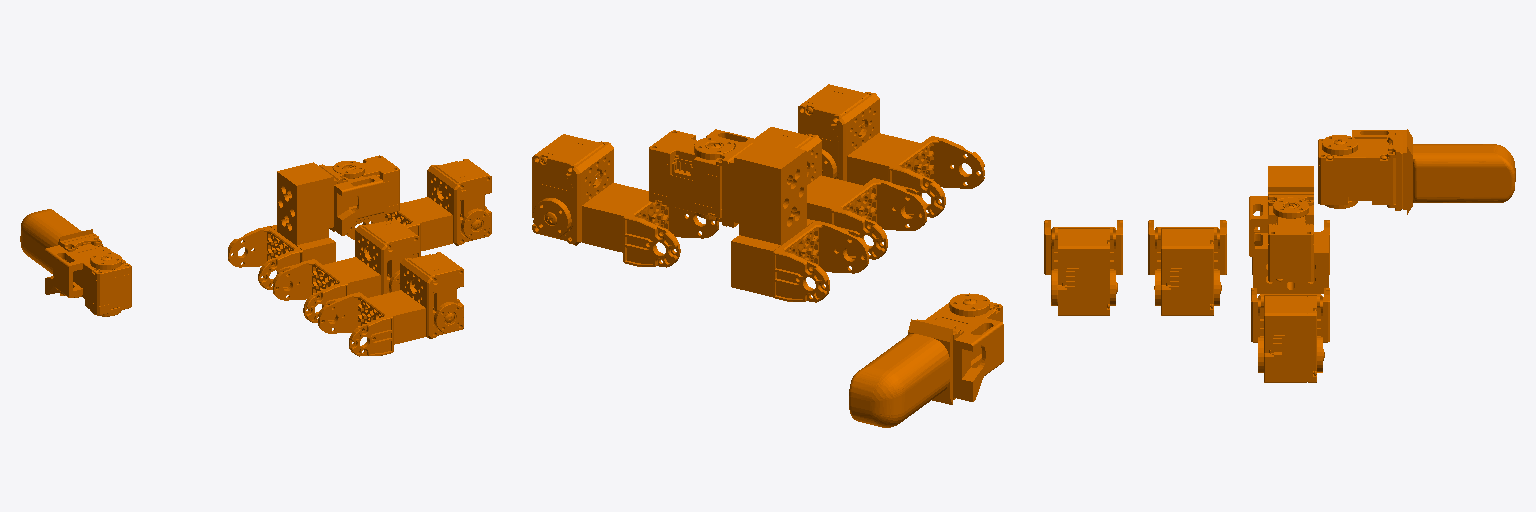
robot.urdf — onshape:
<robot name="onshape">
  <link name="palm_lower">
    <inertial>
      <origin xyz="0.0 0.0 0.0" rpy="0.0 -0.0 0.0"/>
      <mass value="0.237"/>
      <inertia ixx="0.000354094" ixy="-1.193e-06" ixz="-2.445e-06" iyy="0.000260915" iyz="-2.905e-06" izz="0.000529257"/>
    </inertial>
    <visual>
      <geometry>
        <mesh filename="../assets/leap/leap_hand/palm_lower.stl"/>
      </geometry>
      <origin xyz="-0.020095249652862544 0.025757756134899473 -0.034722403578460216" rpy="0.0 -0.0 0.0"/>
      <material name="palm_lower_material">
        <color rgba="0.6039215686274509 0.14901960784313725 0.14901960784313725 1.0"/>
      </material>
    </visual>
    <collision>
      <geometry>
        <mesh filename="../assets/leap/leap_hand/palm_lower.stl"/>
      </geometry>
      <origin xyz="-0.020095249652862544 0.025757756134899473 -0.034722403578460216" rpy="0.0 -0.0 0.0"/>
    </collision>
  </link>
  <link name="mcp_joint_long">
    <inertial>
      <origin xyz="0.0 0.0 0.0" rpy="0.0 -0.0 0.0"/>
      <mass value="0.044"/>
      <inertia ixx="1.1499e-05" ixy="3.049e-06" ixz="1.21e-07" iyy="7.796e-06" iyz="1.12e-07" izz="1.4759e-05"/>
    </inertial>
    <visual>
      <geometry>
        <mesh filename="custom_models/mcp_joint_long.stl"/>
      </geometry>
      <origin xyz="0.008406902261174496 0.0077662438597169954 0.014657354985032912" rpy="1.6375789613221e-15 -1.021047330249102e-30 1.7177968783327987e-31"/>
      <material name="mcp_joint_material">
        <color rgba="0.878 0.467 0.0 1.0"/>
      </material>
    </visual>
    <collision>
      <geometry>
        <mesh filename="custom_models/mcp_joint_long.stl"/>
      </geometry>
      <origin xyz="0.008406902261174496 0.0077662438597169954 0.014657354985032912" rpy="1.6375789613221e-15 -1.021047330249102e-30 1.7177968783327987e-31"/>
    </collision>
  </link>
  <link name="pip">
    <inertial>
      <origin xyz="0.0 0.0 0.0" rpy="0.0 -0.0 0.0"/>
      <mass value="0.032"/>
      <inertia ixx="4.798e-06" ixy="1.2e-08" ixz="4e-09" iyy="2.862e-06" iyz="1.1e-08" izz="4.234e-06"/>
    </inertial>
    <visual>
      <geometry>
        <mesh filename="../assets/leap/leap_hand/pip.stl"/>
      </geometry>
      <origin xyz="0.009643363092271328 0.0002999999999999895 0.0007840340104173765" rpy="-1.5707963267948966 -1.5707963267948963 0.0"/>
      <material name="pip_material">
        <color rgba="0.7490196078431373 0.7490196078431373 0.7490196078431373 1.0"/>
      </material>
    </visual>
    <collision>
      <geometry>
        <mesh filename="../assets/leap/leap_hand/pip.stl"/>
      </geometry>
      <origin xyz="0.009643363092271328 0.0002999999999999895 0.0007840340104173765" rpy="-1.5707963267948966 -1.5707963267948963 0.0"/>
    </collision>
  </link>
  <link name="dip_long">
    <inertial>
      <origin xyz="0.0 0.0 0.0" rpy="0.0 -0.0 0.0"/>
      <mass value="0.037"/>
      <inertia ixx="5.542e-06" ixy="-6.07e-07" ixz="-1.7e-08" iyy="5.727e-06" iyz="-2.3e-08" izz="6.682e-06"/>
    </inertial>
    <visual>
      <geometry>
        <mesh filename="custom_models/dip_long.stl"/>
      </geometry>
      <origin xyz="0.021133352895225003 -0.00843211914670488 0.00978508816209524" rpy="-3.141592653589793 4.507511124216441e-32 4.439548105392361e-32"/>
      <material name="dip_material">
        <color rgba="0.878 0.467 0.0 1.0"/>
      </material>
    </visual>
    <collision>
      <geometry>
        <mesh filename="custom_models/dip_long.stl"/>
      </geometry>
      <origin xyz="0.021133352895225003 -0.00843211914670488 0.00978508816209524" rpy="-3.141592653589793 4.507511124216441e-32 4.439548105392361e-32"/>
    </collision>
  </link>
  <link name="fingertip">
    <inertial>
      <origin xyz="0.0 0.0 0.0" rpy="0.0 -0.0 0.0"/>
      <mass value="0.016"/>
      <inertia ixx="3.368e-06" ixy="1.15e-07" ixz="0.0" iyy="1.556e-06" iyz="0.0" izz="2.863e-06"/>
    </inertial>
    <visual>
      <geometry>
        <mesh filename="../assets/leap/leap_hand/fingertip.stl"/>
      </geometry>
      <origin xyz="0.013286424108533503 -0.006114238386541987 0.014499999999999498" rpy="3.141592653589793 1.1993117970061735e-33 4.439548105392361e-32"/>
      <material name="fingertip_material">
        <color rgba="0.8666666666666667 0.8666666666666667 0.050980392156862744 1.0"/>
      </material>
    </visual>
    <collision>
      <geometry>
        <mesh filename="../assets/leap/leap_hand/fingertip.stl"/>
      </geometry>
      <origin xyz="0.013286424108533503 -0.006114238386541987 0.014499999999999498" rpy="3.141592653589793 1.1993117970061735e-33 4.439548105392361e-32"/>
    </collision>
  </link>
  <link name="pip_4">
    <inertial>
      <origin xyz="0.0 0.0 0.0" rpy="0.0 -0.0 0.0"/>
      <mass value="0.032"/>
      <inertia ixx="4.798e-06" ixy="1.2e-08" ixz="4e-09" iyy="2.862e-06" iyz="1.1e-08" izz="4.234e-06"/>
    </inertial>
    <visual>
      <geometry>
        <mesh filename="../assets/leap/leap_hand/pip.stl"/>
      </geometry>
      <origin xyz="-0.005356636907728671 0.0002999999999999999 0.0007840340104173782" rpy="-1.5707963267948966 -1.5707963267948963 0.0"/>
      <material name="pip_material">
        <color rgba="0.7490196078431373 0.7490196078431373 0.7490196078431373 1.0"/>
      </material>
    </visual>
    <collision>
      <geometry>
        <mesh filename="../assets/leap/leap_hand/pip.stl"/>
      </geometry>
      <origin xyz="-0.005356636907728671 0.0002999999999999999 0.0007840340104173782" rpy="-1.5707963267948966 -1.5707963267948963 0.0"/>
    </collision>
  </link>
  <link name="thumb_pip">
    <inertial>
      <origin xyz="0.0 0.0 0.0" rpy="0.0 -0.0 0.0"/>
      <mass value="0.003"/>
      <inertia ixx="5.93e-07" ixy="0.0" ixz="0.0" iyy="5.49e-07" iyz="0.0" izz="2.24e-07"/>
    </inertial>
    <visual>
      <geometry>
        <mesh filename="../assets/leap/leap_hand/thumb_pip.stl"/>
      </geometry>
      <origin xyz="0.011961920770611187 -5.30825383648903e-16 -0.0158526489566642" rpy="1.5707963267948966 1.6050198443300153e-46 -3.9204996250525193e-59"/>
      <material name="thumb_pip_material">
        <color rgba="0.8666666666666667 0.8666666666666667 0.050980392156862744 1.0"/>
      </material>
    </visual>
    <collision>
      <geometry>
        <mesh filename="../assets/leap/leap_hand/thumb_pip.stl"/>
      </geometry>
      <origin xyz="0.011961920770611187 -5.30825383648903e-16 -0.0158526489566642" rpy="1.5707963267948966 1.6050198443300153e-46 -3.9204996250525193e-59"/>
    </collision>
  </link>
  <link name="thumb_fingertip_long">
    <inertial>
      <origin xyz="0.0 0.0 0.0" rpy="0.0 -0.0 0.0"/>
      <mass value="0.049"/>
      <inertia ixx="2.0372e-05" ixy="-4.89e-07" ixz="-3e-08" iyy="4.336e-06" iyz="-9.7e-08" izz="1.9845e-05"/>
    </inertial>
    <visual>
      <geometry>
        <mesh filename="custom_models/thumb_fingertip_long.stl"/>
      </geometry>
      <origin xyz="0.06255953846266739 0.07845968291139699 0.048992911807332215" rpy="4.379057701015637e-47 -3.33066907387547e-16 1.2042408677791935e-46"/>
      <material name="thumb_fingertip_material">
        <color rgba="0.878 0.467 0.0 1.0"/>
      </material>
    </visual>
    <collision>
      <geometry>
        <mesh filename="custom_models/thumb_fingertip_long.stl"/>
      </geometry>
      <origin xyz="0.06255953846266739 0.07845968291139699 0.048992911807332215" rpy="4.379057701015637e-47 -3.33066907387547e-16 1.2042408677791935e-46"/>
    </collision>
  </link>
  <link name="dip_2_long">
    <inertial>
      <origin xyz="0.0 0.0 0.0" rpy="0.0 -0.0 0.0"/>
      <mass value="0.037"/>
      <inertia ixx="5.542e-06" ixy="-6.07e-07" ixz="-1.7e-08" iyy="5.727e-06" iyz="-2.3e-08" izz="6.682e-06"/>
    </inertial>
    <visual>
      <geometry>
        <mesh filename="custom_models/dip_long.stl"/>
      </geometry>
      <origin xyz="0.021133352895225003 -0.008432119146704865 0.009785088162095237" rpy="-3.141592653589793 2.1146933785271956e-32 1.4408183216511869e-31"/>
      <material name="dip_material">
        <color rgba="0.878 0.467 0.0 1.0"/>
      </material>
    </visual>
    <collision>
      <geometry>
        <mesh filename="custom_models/dip_long.stl"/>
      </geometry>
      <origin xyz="0.021133352895225003 -0.008432119146704865 0.009785088162095237" rpy="-3.141592653589793 2.1146933785271956e-32 1.4408183216511869e-31"/>
    </collision>
  </link>
  <link name="fingertip_2">
    <inertial>
      <origin xyz="0.0 0.0 0.0" rpy="0.0 -0.0 0.0"/>
      <mass value="0.016"/>
      <inertia ixx="3.368e-06" ixy="1.15e-07" ixz="0.0" iyy="1.556e-06" iyz="0.0" izz="2.863e-06"/>
    </inertial>
    <visual>
      <geometry>
        <mesh filename="../assets/leap/leap_hand/fingertip.stl"/>
      </geometry>
      <origin xyz="0.013286424108533496 -0.006114238386542001 0.014499999999999496" rpy="3.141592653589793 -4.317959788283594e-33 1.4408183216511869e-31"/>
      <material name="fingertip_material">
        <color rgba="0.8666666666666667 0.8666666666666667 0.050980392156862744 1.0"/>
      </material>
    </visual>
    <collision>
      <geometry>
        <mesh filename="../assets/leap/leap_hand/fingertip.stl"/>
      </geometry>
      <origin xyz="0.013286424108533496 -0.006114238386542001 0.014499999999999496" rpy="3.141592653589793 -4.317959788283594e-33 1.4408183216511869e-31"/>
    </collision>
  </link>
  <link name="dip_3_long">
    <inertial>
      <origin xyz="0.0 0.0 0.0" rpy="0.0 -0.0 0.0"/>
      <mass value="0.037"/>
      <inertia ixx="5.542e-06" ixy="-6.07e-07" ixz="-1.7e-08" iyy="5.727e-06" iyz="-2.3e-08" izz="6.682e-06"/>
    </inertial>
    <visual>
      <geometry>
        <mesh filename="custom_models/dip_long.stl"/>
      </geometry>
      <origin xyz="0.021133352895225006 -0.008432119146704865 0.009785088162095237" rpy="-3.141592653589793 -1.4095651113919093e-33 1.5565411607615035e-32"/>
      <material name="dip_material">
        <color rgba="0.878 0.467 0.0 1.0"/>
      </material>
    </visual>
    <collision>
      <geometry>
        <mesh filename="custom_models/dip_long.stl"/>
      </geometry>
      <origin xyz="0.021133352895225006 -0.008432119146704865 0.009785088162095237" rpy="-3.141592653589793 -1.4095651113919093e-33 1.5565411607615035e-32"/>
    </collision>
  </link>
  <link name="fingertip_3">
    <inertial>
      <origin xyz="0.0 0.0 0.0" rpy="0.0 -0.0 0.0"/>
      <mass value="0.016"/>
      <inertia ixx="3.368e-06" ixy="1.15e-07" ixz="0.0" iyy="1.556e-06" iyz="0.0" izz="2.863e-06"/>
    </inertial>
    <visual>
      <geometry>
        <mesh filename="../assets/leap/leap_hand/fingertip.stl"/>
      </geometry>
      <origin xyz="0.013286424108533501 -0.006114238386541987 0.0144999999999995" rpy="3.141592653589793 8.61707169505754e-33 1.5565411607615035e-32"/>
      <material name="fingertip_material">
        <color rgba="0.8666666666666667 0.8666666666666667 0.050980392156862744 1.0"/>
      </material>
    </visual>
    <collision>
      <geometry>
        <mesh filename="../assets/leap/leap_hand/fingertip.stl"/>
      </geometry>
      <origin xyz="0.013286424108533501 -0.006114238386541987 0.0144999999999995" rpy="3.141592653589793 8.61707169505754e-33 1.5565411607615035e-32"/>
    </collision>
  </link>
  <joint name="1" type="revolute">
    <parent link="palm_lower"/>
    <child link="mcp_joint_long"/>
    <origin xyz="-0.007095249652862546 0.023057756134899472 -0.01872240357846022" rpy="1.570796326794895 1.5707963267948946 0.0"/>
    <axis xyz="0.0 0.0 -1.0"/>
    <limit effort="0.95" velocity="8.48" lower="-0.314" upper="2.23"/>
  </joint>
  <joint name="0" type="revolute">
    <parent link="mcp_joint_long"/>
    <child link="pip"/>
    <origin xyz="-0.012200000000000007713 0.053099999999999994982 0.014500000000000000736" rpy="-1.5707963267948966 -1.0065212660796337e-15 1.5707963267948943"/>
    <axis xyz="0.0 0.0 -1.0"/>
    <limit effort="0.95" velocity="8.48" lower="-1.047" upper="1.047"/>
  </joint>
  <joint name="2" type="revolute">
    <parent link="pip"/>
    <child link="dip_long"/>
    <origin xyz="0.014999999999999968 0.014299999999999905 -0.012999999999999824" rpy="1.570796326794896 -1.5707963267948963 0.0"/>
    <axis xyz="0.0 0.0 -1.0"/>
    <limit effort="0.95" velocity="8.48" lower="-0.506" upper="1.885"/>
  </joint>
  <joint name="3" type="revolute">
    <parent link="dip_long"/>
    <child link="fingertip"/>
    <origin xyz="-4.0880582495572692636e-09 -0.051100004210367367397 0.00020000000000007858714" rpy="4.5935029425113685e-17 -2.8730071914463795e-16 4.439548105392361e-32"/>
    <axis xyz="0.0 0.0 -1.0"/>
    <limit effort="0.95" velocity="8.48" lower="-0.366" upper="2.042"/>
  </joint>
  <joint name="12" type="revolute">
    <parent link="palm_lower"/>
    <child link="pip_4"/>
    <origin xyz="-0.06939524965286253 -0.0012422438651005258 -0.021622403578460216" rpy="-8.238176646493942e-17 1.5707963267948957 0.0"/>
    <axis xyz="0.0 0.0 -1.0"/>
    <limit effort="0.95" velocity="8.48" lower="-0.349" upper="2.094"/>
  </joint>
  <joint name="13" type="revolute">
    <parent link="pip_4"/>
    <child link="thumb_pip"/>
    <origin xyz="-2.7755575615628914e-17 0.014300000000000005 -0.013000000000000012" rpy="1.570796326794896 -1.5707963267948963 0.0"/>
    <axis xyz="0.0 0.0 -1.0"/>
    <limit effort="0.95" velocity="8.48" lower="-0.47" upper="2.443"/>
  </joint>
  <joint name="15" type="revolute">
    <parent link="thumb_pip"/>
    <child link="thumb_fingertip_long"/>
    <origin xyz="0.0 0.014499999999999966 -0.017000000000000053" rpy="1.5707963267948968 0.0015926535897931142 3.141592653589793"/>
    <axis xyz="0.0 0.0 -1.0"/>
    <limit effort="0.95" velocity="8.48" lower="-1.2" upper="1.9"/>
  </joint>
  <joint name="5" type="revolute">
    <parent link="palm_lower"/>
    <child link="dip_2_long"/>
    <origin xyz="-0.007095249652862546 -0.022392243865100525 -0.01872240357846022" rpy="1.570796326794895 -1.5707963267948946 0.0"/>
    <axis xyz="0.0 0.0 -1.0"/>
    <limit effort="0.95" velocity="8.48" lower="-0.314" upper="2.23"/>
  </joint>
  <joint name="7" type="revolute">
    <parent link="dip_2_long"/>
    <child link="fingertip_2"/>
    <origin xyz="-4.0880582495572692636e-09 -0.051100004210367367397 0.00020000000000007858714" rpy="4.5935029425113685e-17 -2.8730071914463795e-16 4.439548105392361e-32"/>
    <axis xyz="0.0 0.0 -1.0"/>
    <limit effort="0.95" velocity="8.48" lower="-0.366" upper="2.042"/>
  </joint>
  <joint name="9" type="revolute">
    <parent link="palm_lower"/>
    <child link="dip_3_long"/>
    <origin xyz="-0.007095249652862546 -0.06784224386510052 -0.01872240357846022" rpy="1.570796326794895 -1.5707963267948946 0.0"/>
    <axis xyz="0.0 0.0 -1.0"/>
    <limit effort="0.95" velocity="8.48" lower="-0.314" upper="2.23"/>
  </joint>
  <joint name="11" type="revolute">
    <parent link="dip_3_long"/>
    <child link="fingertip_3"/>
    <origin xyz="-4.0880582495572692636e-09 -0.051100004210367367397 0.00020000000000007858714" rpy="4.5935029425113685e-17 -2.8730071914463795e-16 4.439548105392361e-32"/>
    <axis xyz="0.0 0.0 -1.0"/>
    <limit effort="0.95" velocity="8.48" lower="-0.366" upper="2.042"/>
  </joint>
</robot>

--- Facts derived from the render (not from the file) ---
3 views of the same robot in one strip: view 1: azimuth 30°, elevation 25°; view 2: azimuth 150°, elevation 25°; view 3: azimuth 270°, elevation 25° (orthographic).
Model onshape with 12 links and 11 joints (11 revolute), rooted at palm_lower, posed all joints at 0.
Links seen in each view (by area): view 1: mcp_joint_long, dip_3_long, thumb_fingertip_long, dip_2_long, dip_long; view 2: mcp_joint_long, dip_long, thumb_fingertip_long, dip_3_long, dip_2_long; view 3: thumb_fingertip_long, mcp_joint_long, dip_2_long, dip_3_long, dip_long.
Link boxes in pixels (<box>): mcp_joint_long: <box>228,155,399,289</box>; dip_3_long: <box>318,252,463,356</box>; thumb_fingertip_long: <box>20,209,131,316</box>; dip_2_long: <box>273,219,418,322</box>; dip_long: <box>346,159,491,258</box>; mcp_joint_long: <box>649,129,868,302</box>; dip_long: <box>532,134,718,267</box>; thumb_fingertip_long: <box>849,293,1003,427</box>; dip_3_long: <box>798,84,984,217</box>; dip_2_long: <box>755,127,926,259</box>; thumb_fingertip_long: <box>1318,129,1515,214</box>; mcp_joint_long: <box>1249,166,1329,293</box>; dip_2_long: <box>1148,220,1226,315</box>; dip_3_long: <box>1044,220,1122,315</box>; dip_long: <box>1251,288,1329,382</box>.
Bounding box of the posed robot: 0.223 × 0.2068 × 0.0622 m (x, y, z).
Meshes: 7 distinct files referenced, 5 mesh visuals loaded (3 binary STL); not drawn: 7 (reference not matched to a file when rendering).